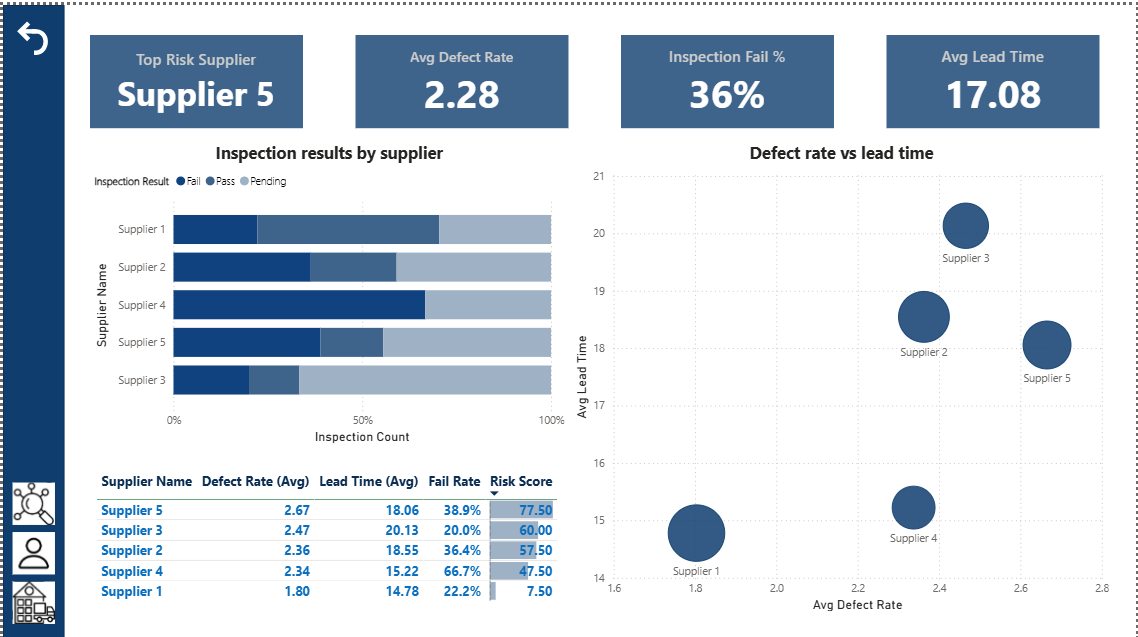

The page's visual inventory and layout, read from the dashboard file:
{"tool":"powerbi","page":{"name":"Supplier Risk","canvas":[1280,720],"ordinal":1},"visuals":[{"type":"shape","box":[0,0,69.5,720.3],"z":0},{"type":"cardVisual","fields":{"Data":["Measures Table.Top Risk Supplier"]},"box":[98.3,33.9,240.7,105.1],"z":0,"group":"g1"},{"type":"actionButton","box":[6.8,647.5,57.6,55.9],"z":0,"group":"g2"},{"type":"group","id":"g1","title":"Group 1","box":[98.3,33.9,1140.7,105.1],"z":1000},{"type":"cardVisual","fields":{"Data":["Measures Table.Avg Defect Rate"]},"box":[398.3,33.9,240.7,105.1],"z":1000,"group":"g1"},{"type":"actionButton","box":[6.8,591.5,57.6,55.9],"z":1000,"group":"g2"},{"type":"cardVisual","fields":{"Data":["Measures Table.Avg Lead Time"]},"box":[998.3,33.9,240.7,105.1],"z":2000,"group":"g1"},{"type":"tableEx","fields":{"Values":["SupplierScores.SupplierName","Sum(SupplierScores.Avg Defect Rate)","Sum(SupplierScores.Avg Lead Time)","Sum(SupplierScores.Fail Rate)","Sum(SupplierScores.Risk Score)"]},"box":[100,522,540.7,167.8],"z":2000},{"type":"actionButton","box":[6.8,535.6,57.6,55.9],"z":2000,"group":"g2"},{"type":"cardVisual","fields":{"Data":["Measures Table.Inspection Fail %"]},"box":[698.3,33.9,240.7,105.1],"z":3000,"group":"g1"},{"type":"scatterChart","title":"Defect rate vs lead time","fields":{"Category":["DimSupplier.SupplierName"],"Size":["Measures Table.Total Revenue"],"X":["Measures Table.Avg Defect Rate"],"Y":["Measures Table.Avg Lead Time"]},"box":[640.7,154.2,613.6,535.6],"z":3000},{"type":"hundredPercentStackedBarChart","title":"Inspection results by supplier","fields":{"Category":["DimSupplier.SupplierName"],"Series":["DimSupplier.InspectionResult"],"Y":["Measures Table.Inspection Count"]},"box":[98.3,154.2,540.7,345.8],"z":4000},{"type":"actionButton","box":[10.2,13.6,50.8,47.5],"z":5000},{"type":"group","id":"g2","title":"Navigation Buttons","box":[6.8,535.6,57.6,167.8],"z":6000}]}

Visuals, with their boxes on the page's 1280x720 design canvas (x1, y1, x2, y2). These are canvas units, not pixel positions in the 1138x637 screenshot, which may show the page scaled, cropped or inside an application window:
shape: x1=0 y1=0 x2=70 y2=720
cardVisual - Measures Table.Top Risk Supplier: x1=98 y1=34 x2=339 y2=139
actionButton: x1=7 y1=648 x2=64 y2=703
"Group 1" group: x1=98 y1=34 x2=1239 y2=139
cardVisual - Measures Table.Avg Defect Rate: x1=398 y1=34 x2=639 y2=139
actionButton: x1=7 y1=592 x2=64 y2=647
cardVisual - Measures Table.Avg Lead Time: x1=998 y1=34 x2=1239 y2=139
tableEx - SupplierScores.SupplierName x Sum(SupplierScores.Avg Defect Rate): x1=100 y1=522 x2=641 y2=690
actionButton: x1=7 y1=536 x2=64 y2=592
cardVisual - Measures Table.Inspection Fail %: x1=698 y1=34 x2=939 y2=139
"Defect rate vs lead time" scatterChart: x1=641 y1=154 x2=1254 y2=690
"Inspection results by supplier" hundredPercentStackedBarChart: x1=98 y1=154 x2=639 y2=500
actionButton: x1=10 y1=14 x2=61 y2=61
"Navigation Buttons" group: x1=7 y1=536 x2=64 y2=703
